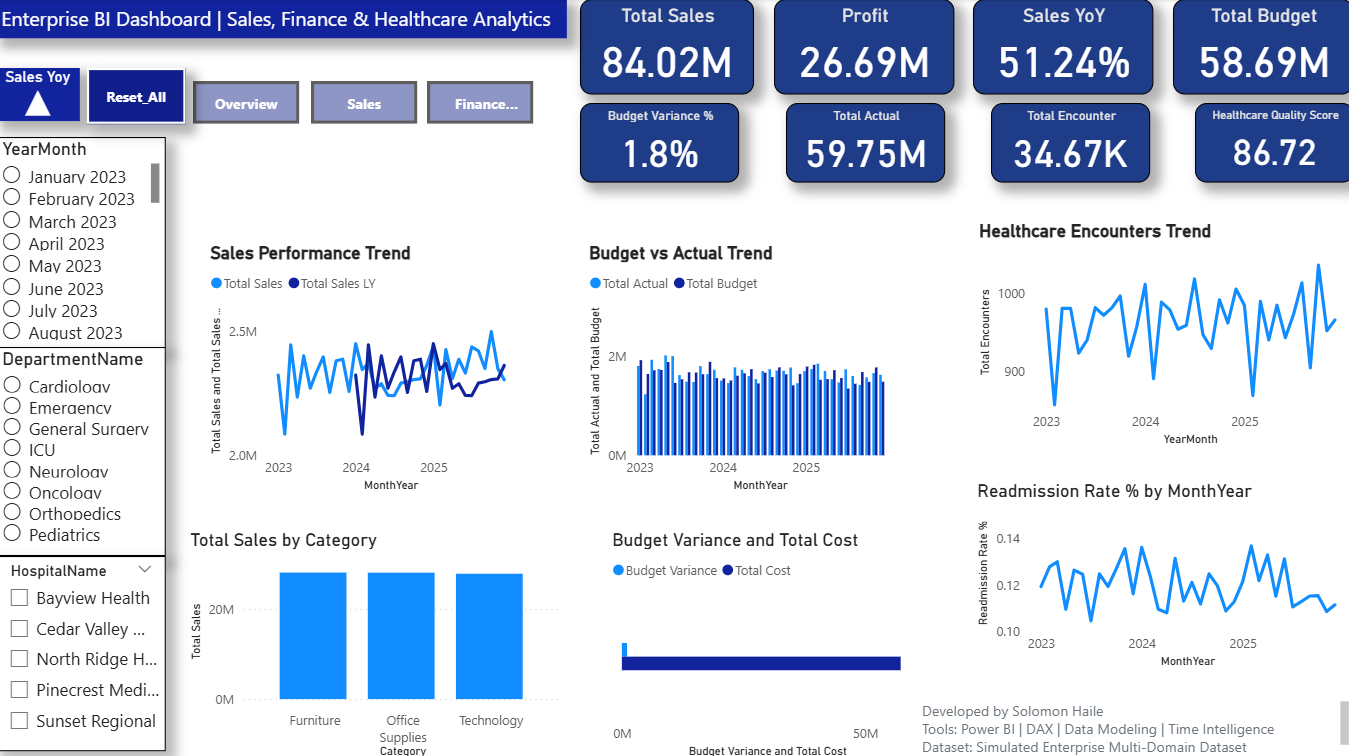

The dashboard page shown, as its layout file describes it:
{"tool":"powerbi","page":{"name":"“Enterprise BI Dashboard","canvas":[1280,720],"ordinal":5},"visuals":[{"type":"card","title":"Total Sales","fields":{"Values":["_Measures.Total Sales"]},"box":[550.7,0,163.9,90.4],"z":0},{"type":"card","title":"Profit","fields":{"Values":["_Measures.Profit"]},"box":[732.8,0,170.1,90.4],"z":1000},{"type":"card","title":"Sales YoY","fields":{"Values":["_Measures.Sales YoY %"]},"box":[921.2,0,170.1,90.4],"z":2000},{"type":"card","title":"Total Actual","fields":{"Values":["_Measures.Total Actual"]},"box":[744.3,97.6,150,75],"z":3000},{"type":"card","title":"Total Budget","fields":{"Values":["_Measures.Total Budget"]},"box":[1109.6,0,170.1,90.4],"z":4000},{"type":"card","title":"Budget Variance %","fields":{"Values":["_Measures.Budget Variance %"]},"box":[550.7,97.6,150.4,75.2],"z":5000},{"type":"card","title":"Total Encounter","fields":{"Values":["_Measures.Total Encounters"]},"box":[937.4,97.6,150,75],"z":6000},{"type":"card","title":"Healthcare Quality Score","fields":{"Values":["_Measures.Healthcare Quality Score"]},"box":[1130,97.6,150,75],"z":7000},{"type":"lineChart","title":"Sales Performance Trend","fields":{"Category":["DimDate.MonthYear"],"Y":["_Measures.Total Sales","_Measures.Total Sales LY"]},"box":[197,229.3,300,240],"z":8000},{"type":"clusteredColumnChart","title":"Budget vs Actual Trend","fields":{"Category":["DimDate.MonthYear"],"Y":["_Measures.Total Actual","_Measures.Total Budget"]},"box":[554.3,229.3,300,240],"z":9000},{"type":"lineChart","title":"Healthcare Encounters Trend","fields":{"Category":["DimDate.YearMonth"],"Y":["_Measures.Total Encounters"]},"box":[921.5,208.7,358.2,217.6],"z":10000},{"type":"clusteredColumnChart","fields":{"Category":["DimProduct.Category"],"Y":["_Measures.Total Sales"]},"box":[178.2,499.7,360,220.3],"z":11000},{"type":"clusteredBarChart","fields":{"Y":["_Measures.Budget Variance","_Measures.Total Cost"]},"box":[576,499.7,306,220],"z":12000},{"type":"lineChart","fields":{"Y":["_Measures.Readmission Rate %"],"Category":["DimDate.MonthYear"]},"box":[919.7,453.1,360,181.8],"z":13000},{"type":"listSlicer","fields":{"Values":["DimDate.YearMonth"]},"box":[0,129.9,160.3,198.8],"z":14000},{"type":"listSlicer","fields":{"Values":["DimDepartment.DepartmentName"]},"box":[0,327.9,160.3,196.6],"z":15000},{"type":"slicer","fields":{"Values":["DimHospital.HospitalName"]},"box":[0,525,160,184],"z":16000},{"type":"card","title":"Sales Yoy","fields":{"Values":["_Measures.Sales YoY Icon"]},"box":[0,65.4,78.8,50.1],"z":18000},{"type":"actionButton","box":[185.4,77,100.3,40.3],"z":19000},{"type":"actionButton","box":[297.3,77,100.3,40.3],"z":20000},{"type":"actionButton","box":[406.6,77,100.3,40.3],"z":21000},{"type":"actionButton","box":[85.6,64.9,92.8,52.6],"z":22000},{"type":"textbox","box":[0,0,538.2,36.7],"z":22001},{"type":"textbox","box":[868,657,412,63],"z":22002}]}

Visuals, with their boxes in screenshot pixels (x1, y1, x2, y2), scaled from the page's 1280x720 canvas onto the 1349x756 screenshot:
"Total Sales" card: 580 0 753 95
"Profit" card: 772 0 952 95
"Sales YoY" card: 971 0 1150 95
"Total Actual" card: 784 102 943 181
"Total Budget" card: 1169 0 1348 95
"Budget Variance %" card: 580 102 739 181
"Total Encounter" card: 988 102 1146 181
"Healthcare Quality Score" card: 1191 102 1348 181
"Sales Performance Trend" lineChart: 208 241 524 493
"Budget vs Actual Trend" clusteredColumnChart: 584 241 900 493
"Healthcare Encounters Trend" lineChart: 971 219 1348 448
clusteredColumnChart - DimProduct.Category x _Measures.Total Sales: 188 525 567 755
clusteredBarChart - _Measures.Budget Variance x _Measures.Total Cost: 607 525 930 755
lineChart - _Measures.Readmission Rate % x DimDate.MonthYear: 969 476 1348 667
listSlicer - DimDate.YearMonth: 0 136 169 345
listSlicer - DimDepartment.DepartmentName: 0 344 169 551
slicer - DimHospital.HospitalName: 0 551 169 744
"Sales Yoy" card: 0 69 83 121
actionButton: 195 81 301 123
actionButton: 313 81 419 123
actionButton: 429 81 534 123
actionButton: 90 68 188 123
textbox: 0 0 567 39
textbox: 915 690 1348 755
